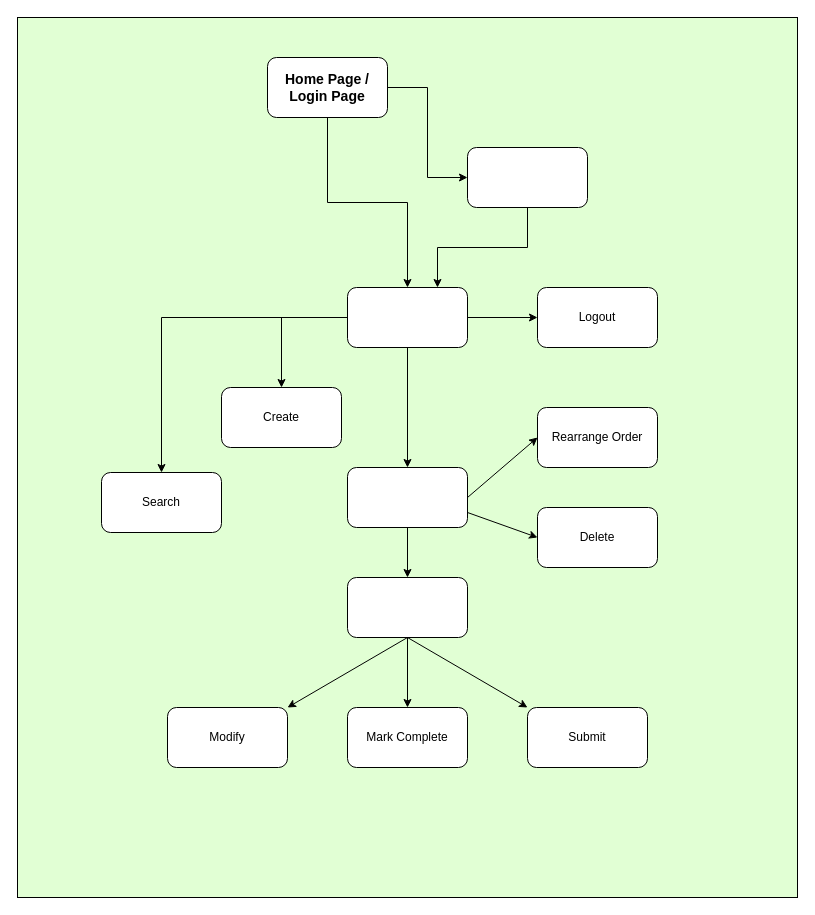
Image size: 815x915. Some labels were removed from this diagram. The shapes that lost their labels are listed below. From the top down, each one's centre as x and y in pixels, then its label:
At pixel 527 177: "Register".
At pixel 407 317: "Dashboard".
At pixel 407 497: "Task List".
At pixel 407 607: "Task Page".
